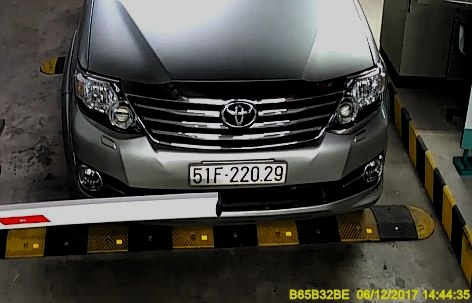plate: (189, 157, 288, 186)
